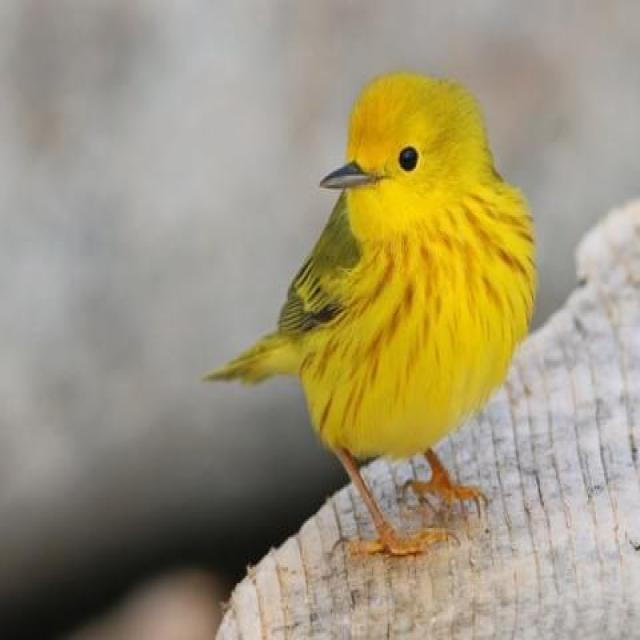other: (251, 73, 550, 476)
